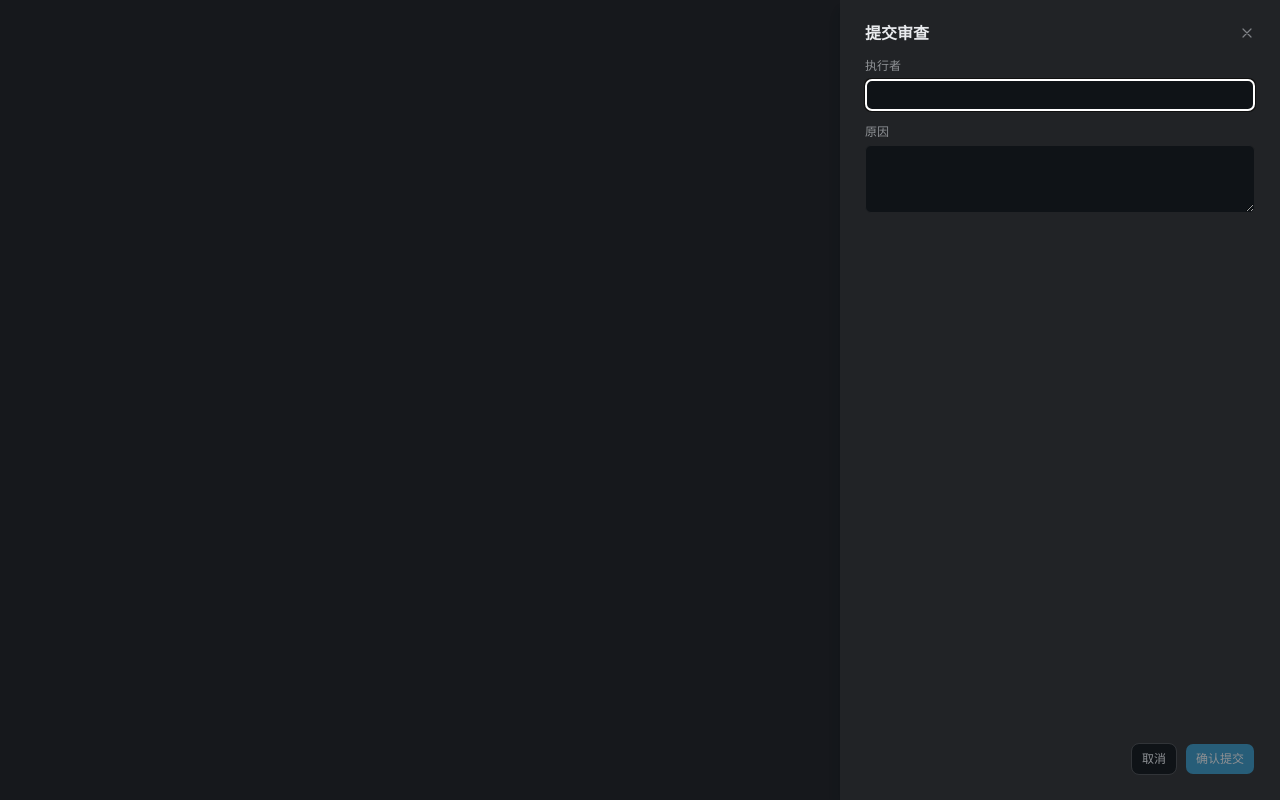
Test: DecisionDialog › disables confirm until actor and reason are both non-empty
Expected: the button "确认提交" is disabled, [1185,743,1255,775]
Type "analyst" into the field labelled "执行者" at coordinates (1060, 95), box [865,79,1255,111]
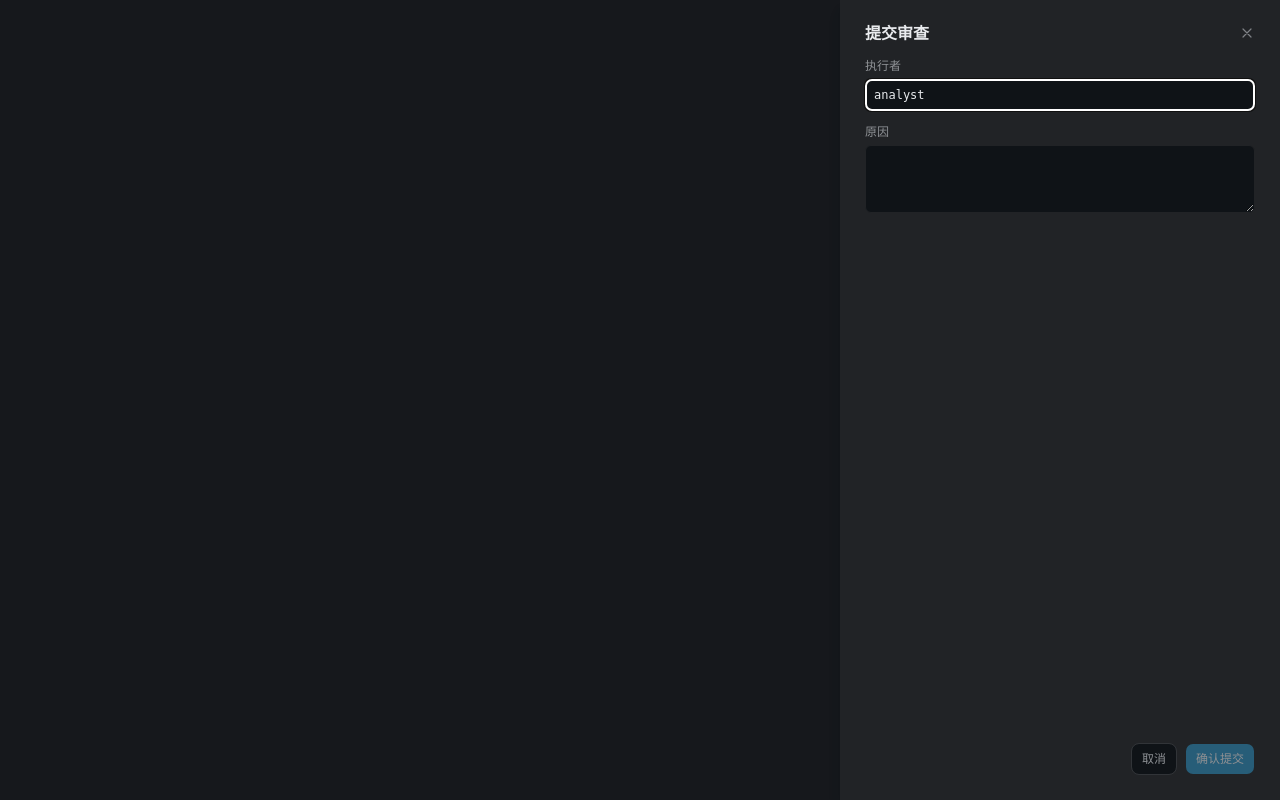
Type "提交审查" into the text box labelled "原因" at coordinates (1060, 179), box [865,145,1255,213]
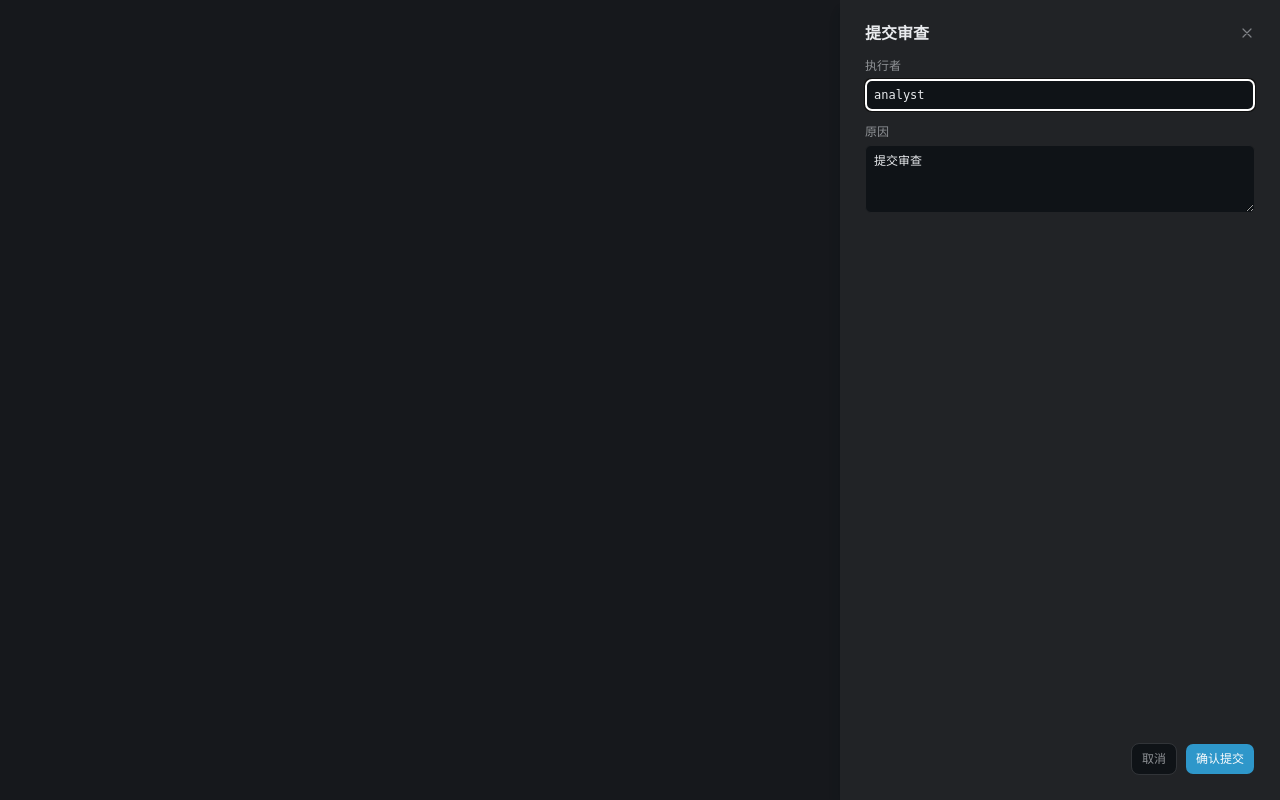
Result: the button "确认提交" is enabled at [1185,743,1255,775]
